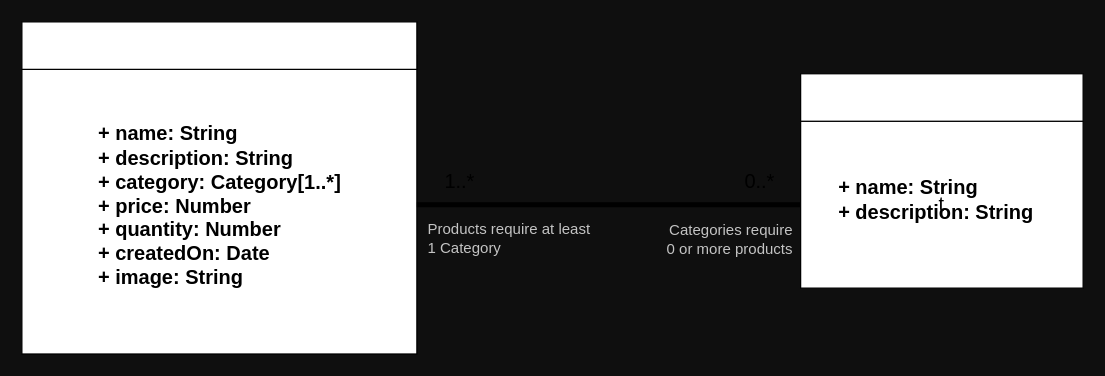
Some shapes in this 1105 by 376 pixel diagram are drawn without their labels. The centre of each missing label's shape, as x and y in pixels:
Category: [941,96]
Product: [219,45]
